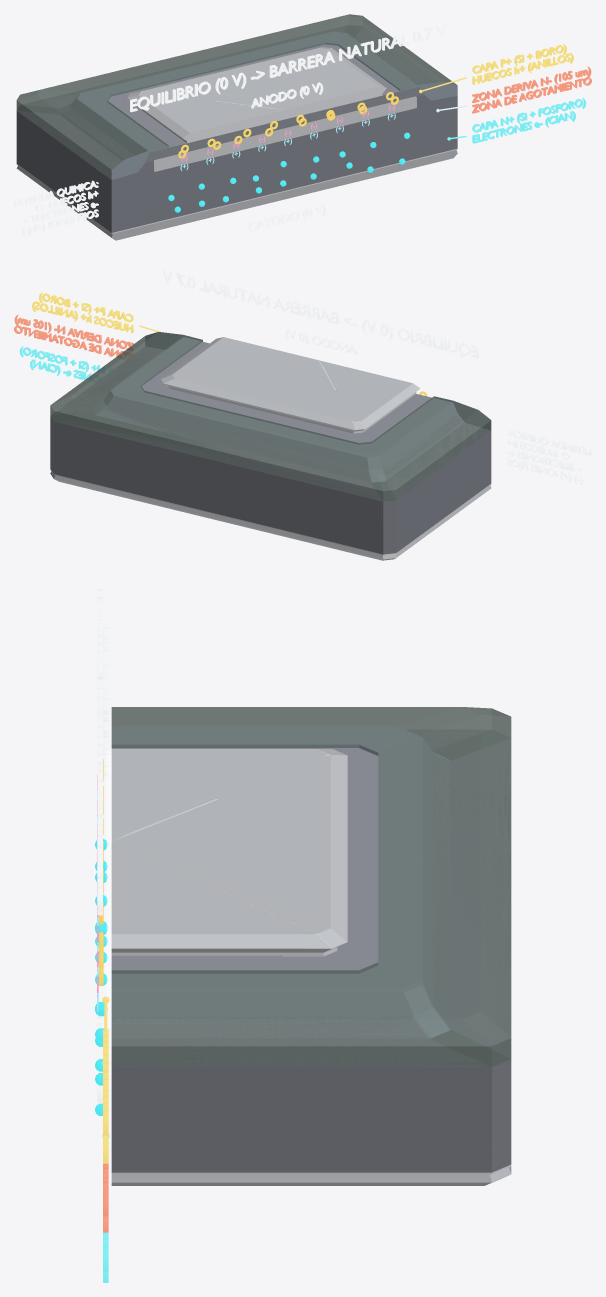
Rendered from 03_Diodo_1N4007_Union_PN_Microscopio_Real.glb.
3 renders of one model, top to bottom at view 1: azimuth 30°, elevation 25°; view 2: azimuth 150°, elevation 25°; view 3: azimuth 270°, elevation 25°, orthographic. The views are drawn at different scales.
Visible parts, largest first — view 1: 04R_Micro_Real_Silicio_Deriva_Mesa, 06R_Micro_Real_Vidrio_GPP_y_SiO2, 03R_Micro_Real_Silicio_Base_NPlus, 07R_Micro_Real_Pad_Anodo_y_Soldadura, 05R_Micro_Real_Silicio_Meseta_Sup, 01R_Micro_Real_Soldadura_Inferior, FX_Zona_Agotamiento_Equilibrio, Lbl_Est_Eq, Lbl_Leyenda, Lbl_Capa_Nm, Lbl_Capa_Np, Lbl_Capa_P (+3 smaller); view 2: 06R_Micro_Real_Vidrio_GPP_y_SiO2, 04R_Micro_Real_Silicio_Deriva_Mesa, 07R_Micro_Real_Pad_Anodo_y_Soldadura, 03R_Micro_Real_Silicio_Base_NPlus, 05R_Micro_Real_Silicio_Meseta_Sup, Lbl_Est_Eq, 01R_Micro_Real_Soldadura_Inferior, Lbl_Leyenda, Lbl_Capa_Nm, Lbl_Capa_P, Lbl_Capa_Np, 02R_Micro_Real_Metalizacion_Catodo (+1 smaller); view 3: 06R_Micro_Real_Vidrio_GPP_y_SiO2, 04R_Micro_Real_Silicio_Deriva_Mesa, 07R_Micro_Real_Pad_Anodo_y_Soldadura, 03R_Micro_Real_Silicio_Base_NPlus, 05R_Micro_Real_Silicio_Meseta_Sup, 01R_Micro_Real_Soldadura_Inferior, Lbl_Est_Eq, FX_Zona_Agotamiento_Equilibrio, 02R_Micro_Real_Metalizacion_Catodo, Lbl_Leyenda.
Boxes of the visible parts, bbox=[...] form: 04R_Micro_Real_Silicio_Deriva_Mesa: bbox=[16, 25, 457, 203]; 06R_Micro_Real_Vidrio_GPP_y_SiO2: bbox=[16, 14, 457, 180]; 03R_Micro_Real_Silicio_Base_NPlus: bbox=[16, 119, 457, 232]; 07R_Micro_Real_Pad_Anodo_y_Soldadura: bbox=[127, 46, 386, 143]; 05R_Micro_Real_Silicio_Meseta_Sup: bbox=[108, 44, 423, 162]; 01R_Micro_Real_Soldadura_Inferior: bbox=[16, 150, 457, 240]; FX_Zona_Agotamiento_Equilibrio: bbox=[154, 96, 416, 171]; Lbl_Est_Eq: bbox=[130, 23, 446, 112]; Lbl_Leyenda: bbox=[14, 180, 98, 236]; Lbl_Capa_Nm: bbox=[472, 66, 591, 113]; Lbl_Capa_Np: bbox=[472, 98, 586, 143]; Lbl_Capa_P: bbox=[472, 44, 573, 84]; 06R_Micro_Real_Vidrio_GPP_y_SiO2: bbox=[50, 332, 491, 501]; 04R_Micro_Real_Silicio_Deriva_Mesa: bbox=[50, 346, 491, 524]; 07R_Micro_Real_Pad_Anodo_y_Soldadura: bbox=[161, 337, 420, 433]; 03R_Micro_Real_Silicio_Base_NPlus: bbox=[50, 439, 491, 554]; 05R_Micro_Real_Silicio_Meseta_Sup: bbox=[141, 342, 432, 443]; Lbl_Est_Eq: bbox=[162, 269, 478, 358]; 01R_Micro_Real_Soldadura_Inferior: bbox=[50, 471, 491, 560]; Lbl_Leyenda: bbox=[507, 429, 591, 485]; Lbl_Capa_Nm: bbox=[14, 315, 133, 358]; Lbl_Capa_P: bbox=[32, 292, 133, 333]; Lbl_Capa_Np: bbox=[19, 346, 112, 382]; 02R_Micro_Real_Metalizacion_Catodo: bbox=[50, 469, 491, 555]; 06R_Micro_Real_Vidrio_GPP_y_SiO2: bbox=[111, 707, 511, 1067]; 04R_Micro_Real_Silicio_Deriva_Mesa: bbox=[111, 730, 511, 1113]; 07R_Micro_Real_Pad_Anodo_y_Soldadura: bbox=[111, 749, 347, 956]; 03R_Micro_Real_Silicio_Base_NPlus: bbox=[111, 1106, 511, 1172]; 05R_Micro_Real_Silicio_Meseta_Sup: bbox=[111, 748, 378, 972]; 01R_Micro_Real_Soldadura_Inferior: bbox=[111, 1166, 511, 1185]; Lbl_Est_Eq: bbox=[97, 589, 102, 915]; FX_Zona_Agotamiento_Equilibrio: bbox=[106, 751, 110, 1027]; 02R_Micro_Real_Metalizacion_Catodo: bbox=[111, 1165, 511, 1174]; Lbl_Leyenda: bbox=[103, 623, 108, 776].
Size of what is drawn, in the model's own units: 23.36 by 6.31 by 7.3.
19 materials, 9 textured.
